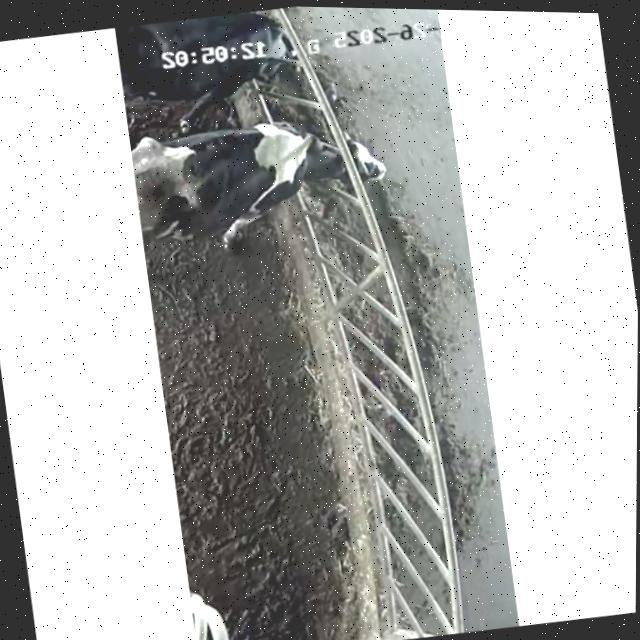eat: (233, 93, 401, 220), (193, 4, 354, 101)
